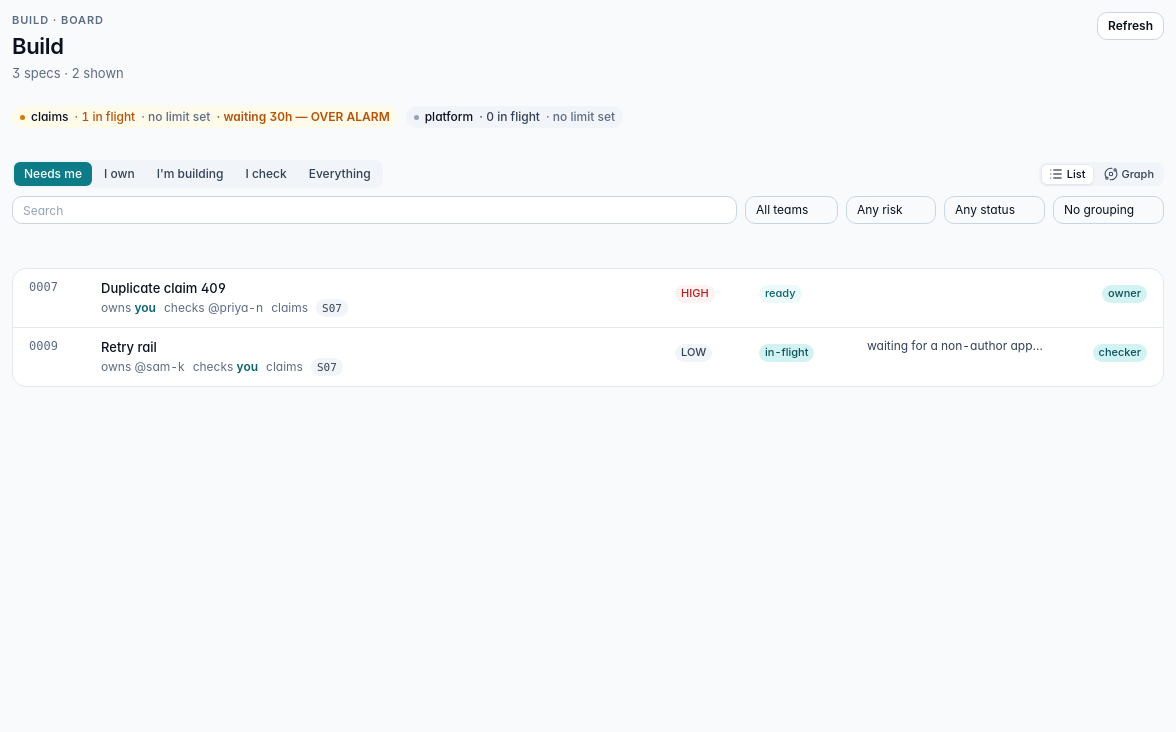
Test: BuildBoard: one read, many views › switching role, searching and grouping never re-read; every spec is a `main li button` with a Flip id
Expected: the heading "Build" is shown, [12, 33, 64, 59]
Click the button "Everything". click: x=340, y=174
box: [299, 162, 381, 186]
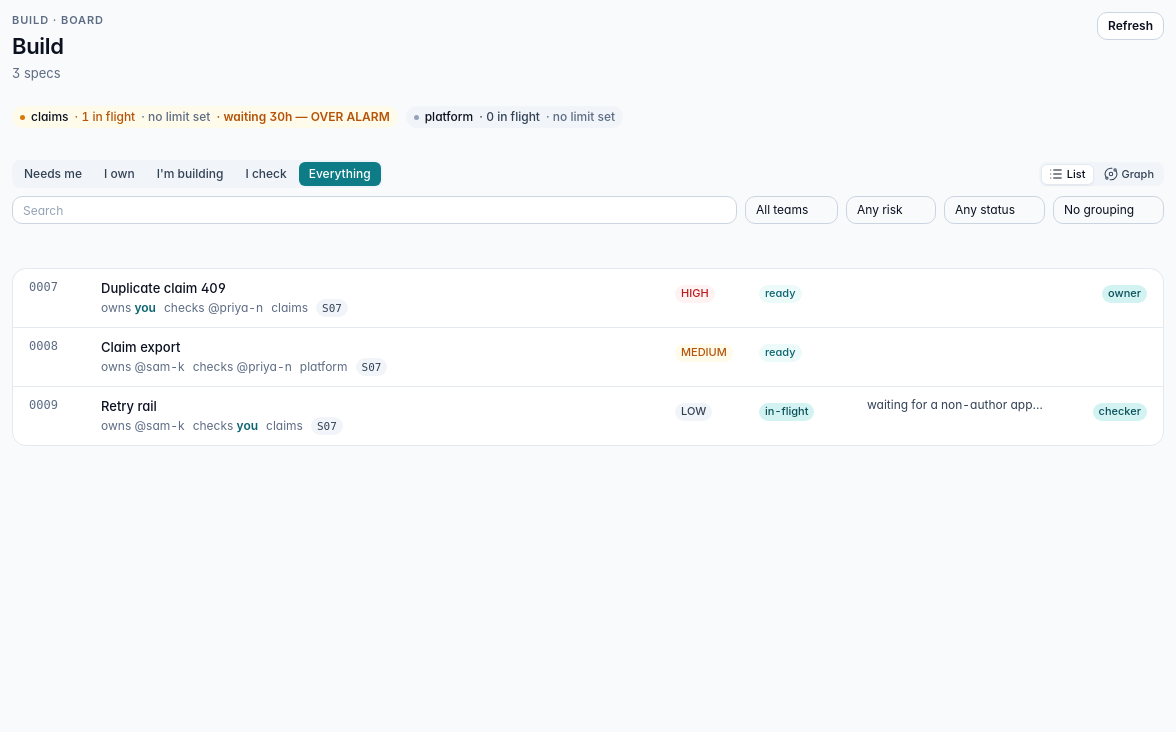
Expected: the element showing "3 specs" is shown, [12, 65, 61, 81]
Type "export" into the field with placeholder "Search". click: x=374, y=210
box: [12, 196, 737, 224]
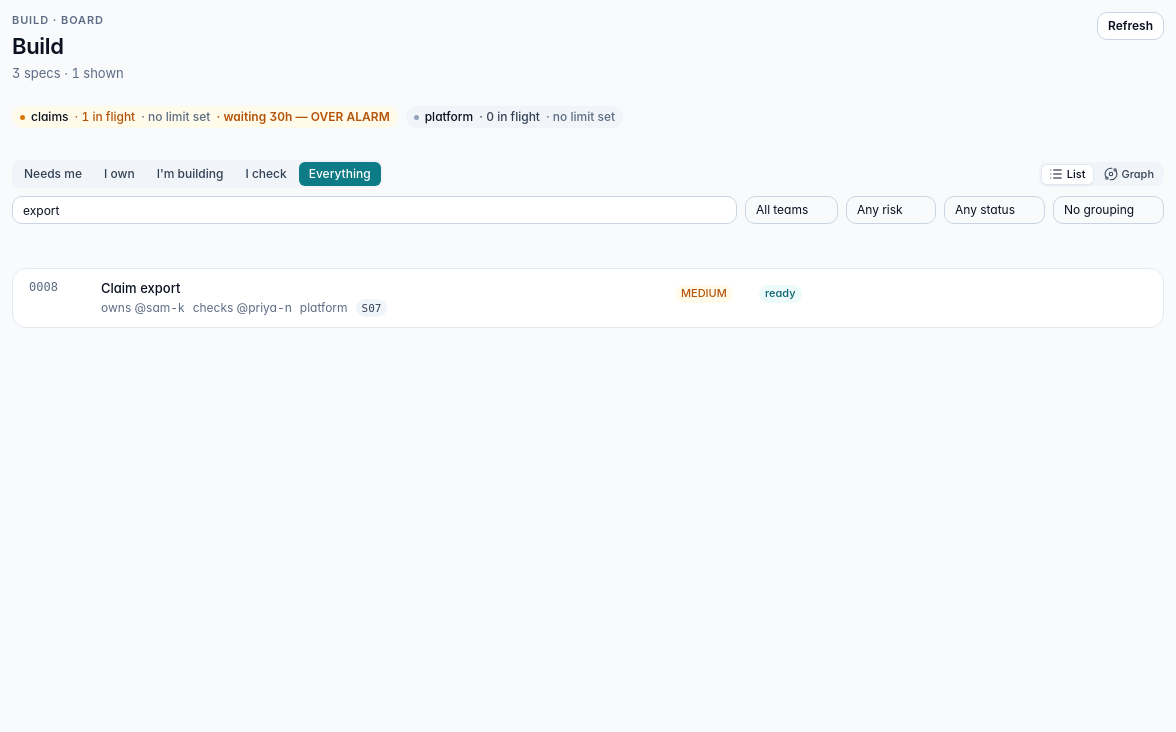
Clear the field with placeholder "Search". click: x=374, y=210
box: [12, 196, 737, 224]
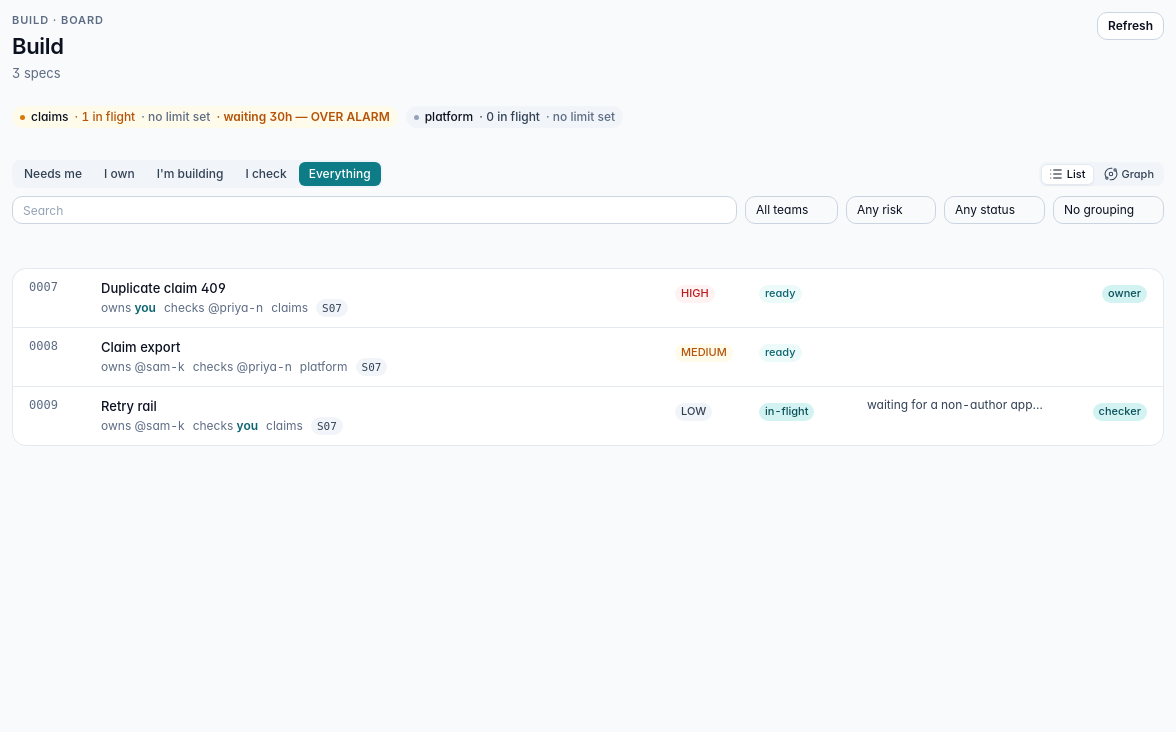
Select "team" in the dropdown named "Grouping". click: x=1108, y=210
box: [1053, 196, 1164, 224]
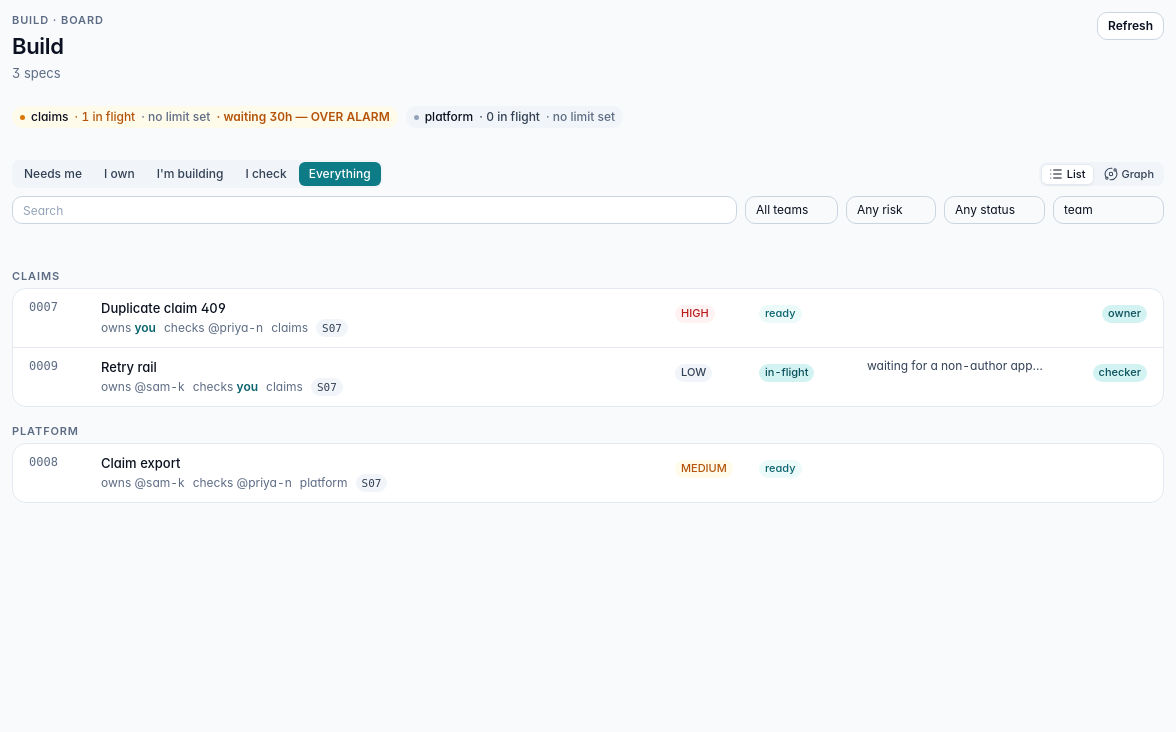
Now the heading "claims" is shown, box [12, 269, 60, 283]
Now the heading "platform" is shown, box [12, 424, 79, 438]
